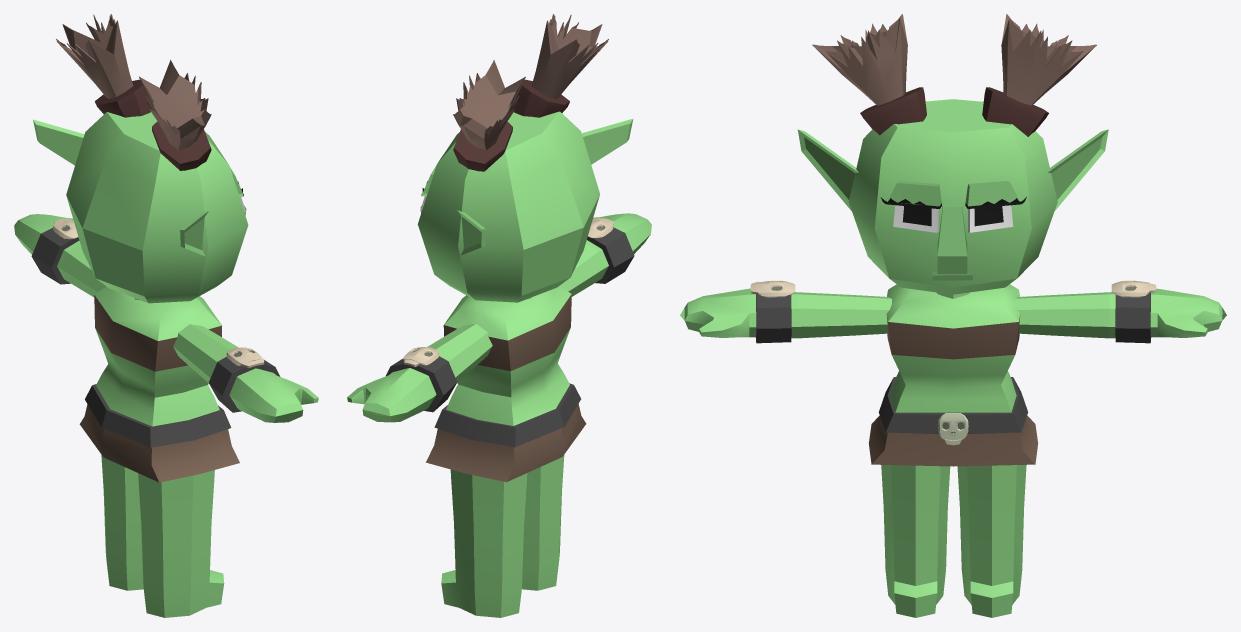
The model's file is Golbin4.fbx.
3 views of the same model, side by side, from view 1: azimuth 30°, elevation 25°; view 2: azimuth 150°, elevation 25°; view 3: azimuth 270°, elevation 25° (orthographic). The views are drawn at different scales.
Parts seen in each view (by area): view 1: Plane.013; view 2: Plane.013; view 3: Plane.013.
Part boxes in pixels (x1=…): Plane.013: x1=14, y1=14, x2=318, y2=617; Plane.013: x1=347, y1=14, x2=651, y2=617; Plane.013: x1=680, y1=14, x2=1226, y2=617.
Size of the model in its own units: 384 by 1304 by 1133.
